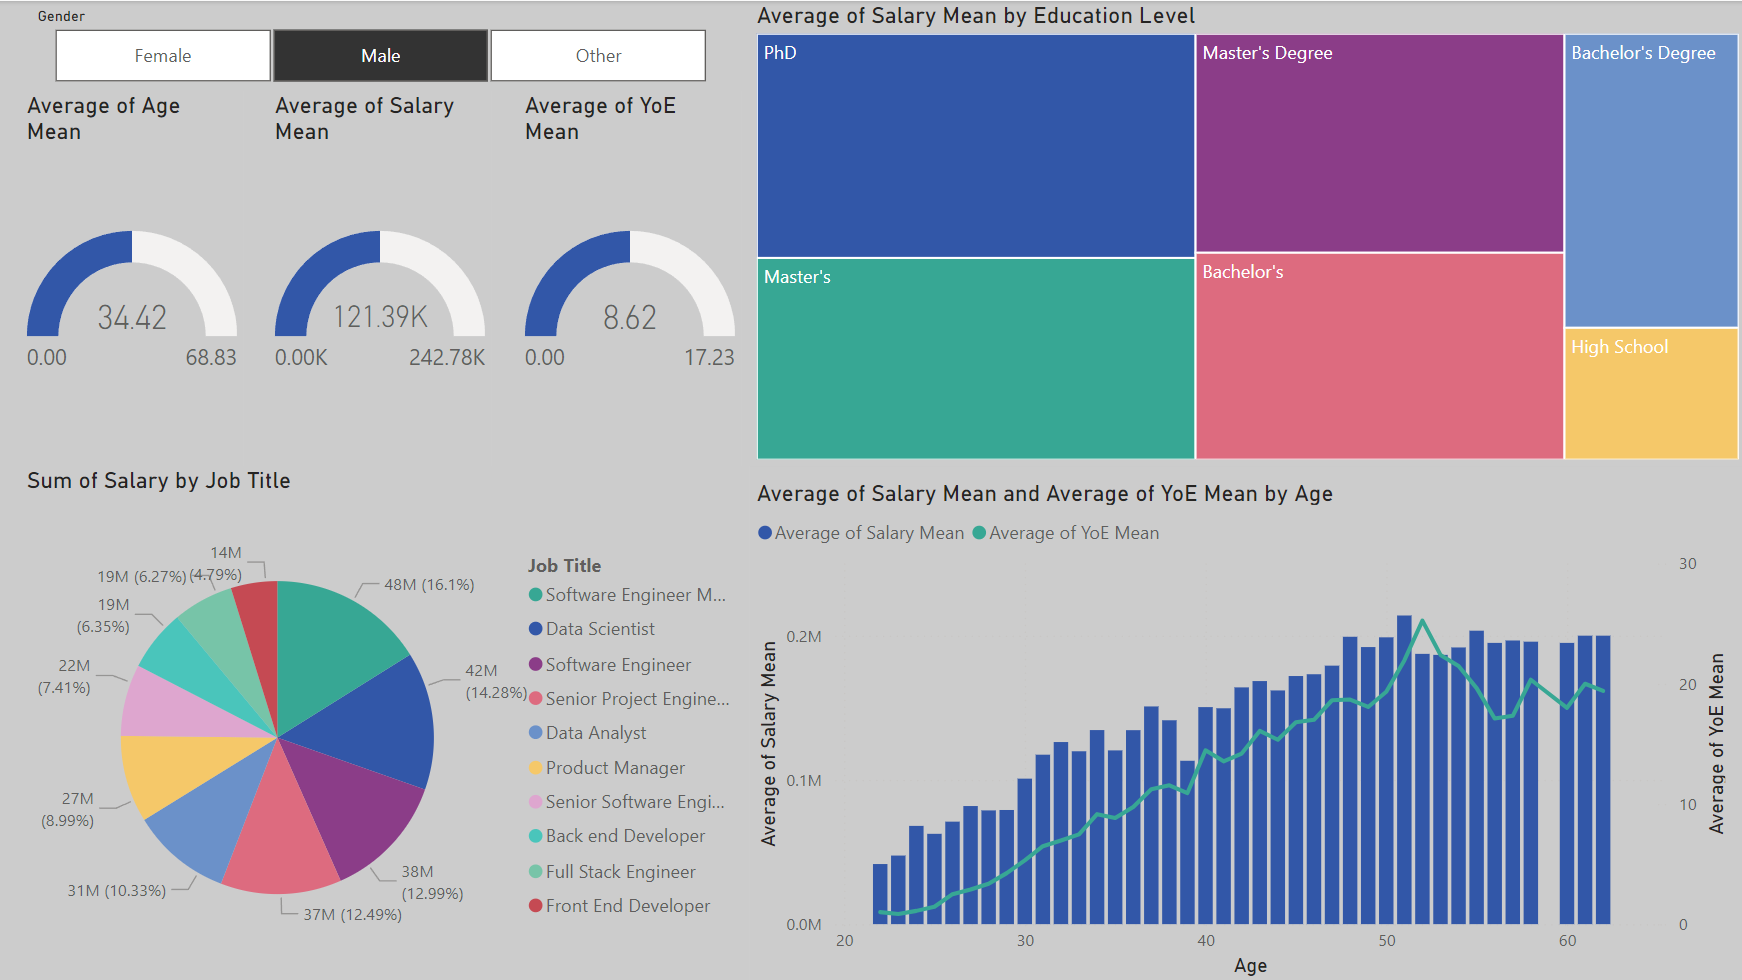

The page's visual inventory and layout, read from the dashboard file:
{"tool":"powerbi","page":{"name":"Page 1","canvas":[1280,720],"ordinal":0},"visuals":[{"type":"lineClusteredColumnComboChart","fields":{"Category":["Salary Data.Age"],"Y2":["Avg(Statistics.YoE Mean)"],"Y":["Avg(Statistics.Salary Mean)"]},"box":[550.5,350.5,720.2,369.7],"z":0},{"type":"slicer","fields":{"Values":["Salary Data.Gender"]},"box":[15.1,0,527.2,65.7],"z":1000},{"type":"treemap","fields":{"Group":["Salary Data.Education Level"],"Values":["Avg(Statistics.Salary Mean)"]},"box":[550.4,0,729.9,341.3],"z":2000},{"type":"pieChart","fields":{"Category":["Salary Data.Job Title"],"Y":["Sum(Salary Data.Salary)"]},"box":[15.1,341,535.4,379.3],"z":3000},{"type":"gauge","fields":{"Y":["Avg(Statistics.Age Mean)"]},"box":[15.1,65.7,164.3,275.2],"z":3001},{"type":"gauge","fields":{"Y":["Avg(Statistics.Salary Mean)"]},"box":[197.2,65.7,164.3,275.2],"z":3002},{"type":"gauge","fields":{"Y":["Avg(Statistics.YoE Mean)"]},"box":[380.7,65.7,164.3,275.2],"z":3003}]}

Visuals, with their boxes in screenshot pixels (x1, y1, x2, y2), scaled from the page's 1280x720 canvas onto the 1742x980 screenshot:
lineClusteredColumnComboChart - Salary Data.Age x Avg(Statistics.YoE Mean): region(749, 477, 1729, 979)
slicer - Salary Data.Gender: region(21, 0, 738, 89)
treemap - Salary Data.Education Level x Avg(Statistics.Salary Mean): region(749, 0, 1741, 465)
pieChart - Salary Data.Job Title x Sum(Salary Data.Salary): region(21, 464, 749, 979)
gauge - Avg(Statistics.Age Mean): region(21, 89, 244, 464)
gauge - Avg(Statistics.Salary Mean): region(268, 89, 492, 464)
gauge - Avg(Statistics.YoE Mean): region(518, 89, 742, 464)
